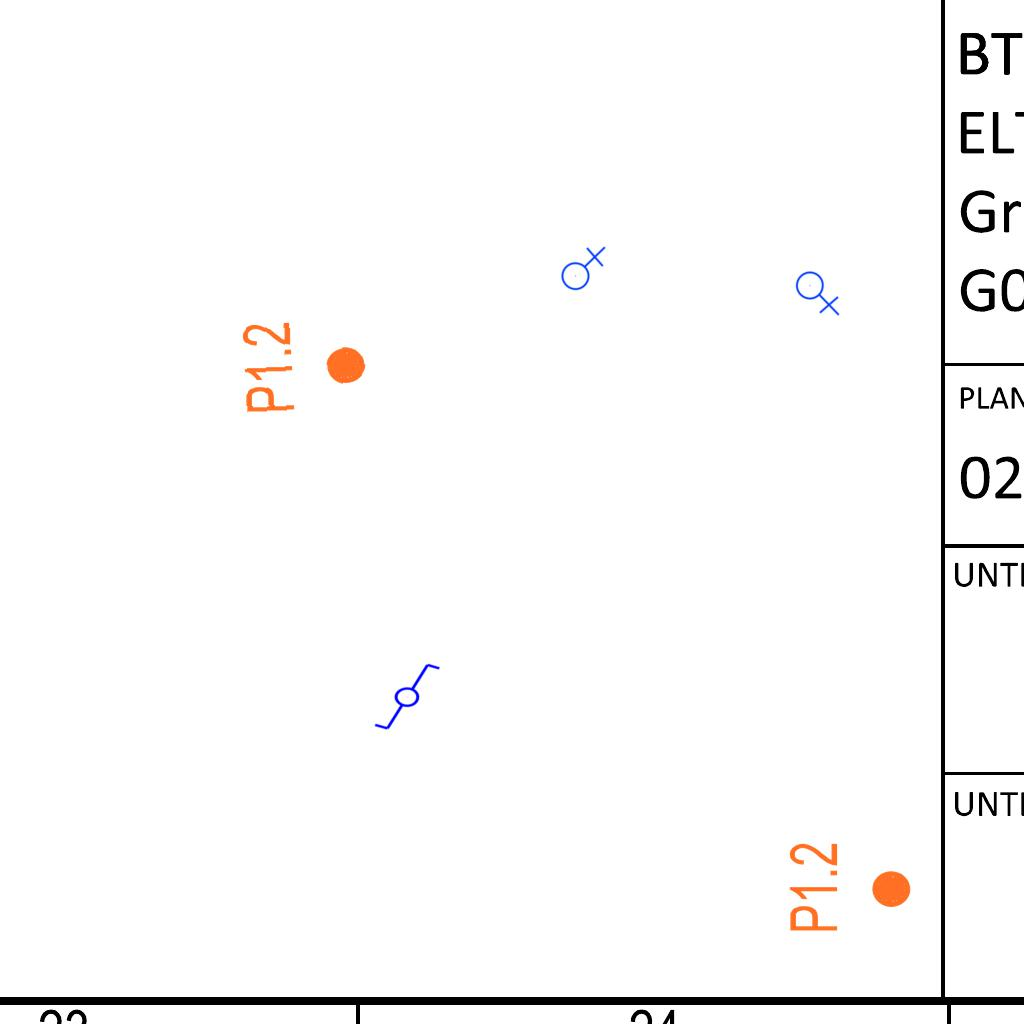Downlight_LED_Einbauleuchten_Flur: (238, 316, 371, 416), (786, 841, 914, 934)
Elektroanschluss_allgemein_230V_Geraeteanschlussdose_230V: (795, 267, 842, 316), (557, 244, 606, 291)
Wechselschalter: (364, 660, 442, 732)
